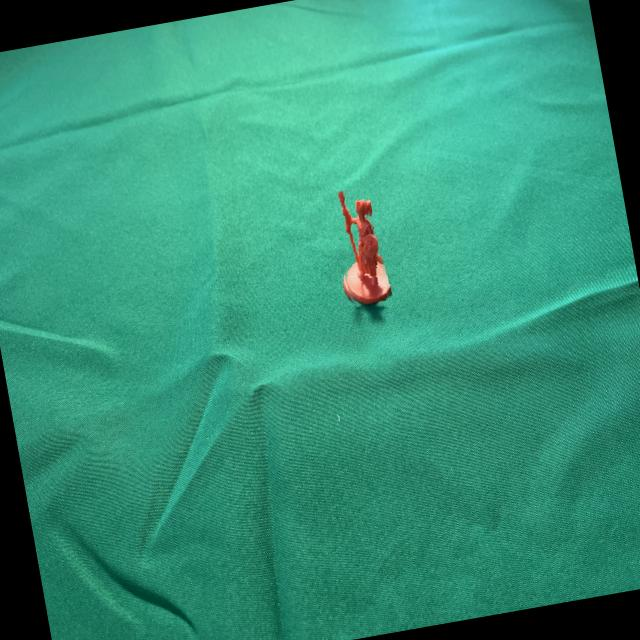amon_follower: (337, 189, 391, 304)
